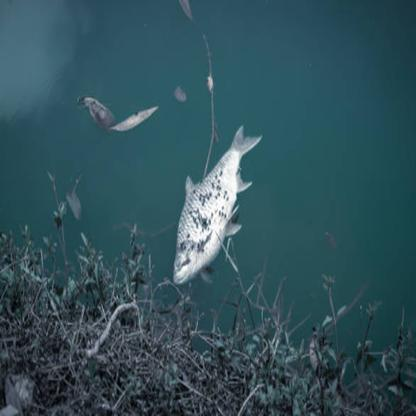deceased fish: (165, 122, 264, 289)
